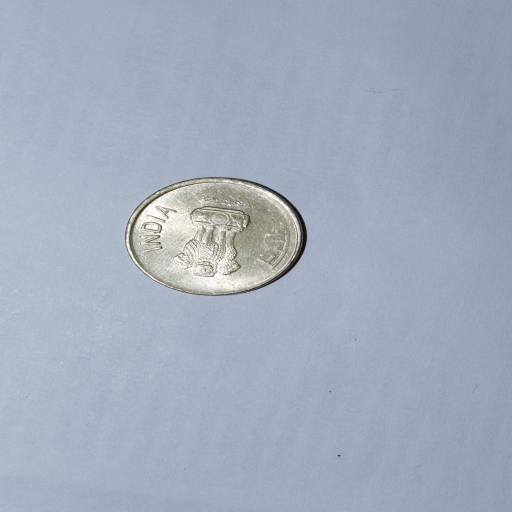rupee5: (76, 172, 491, 512), (123, 176, 306, 295)
